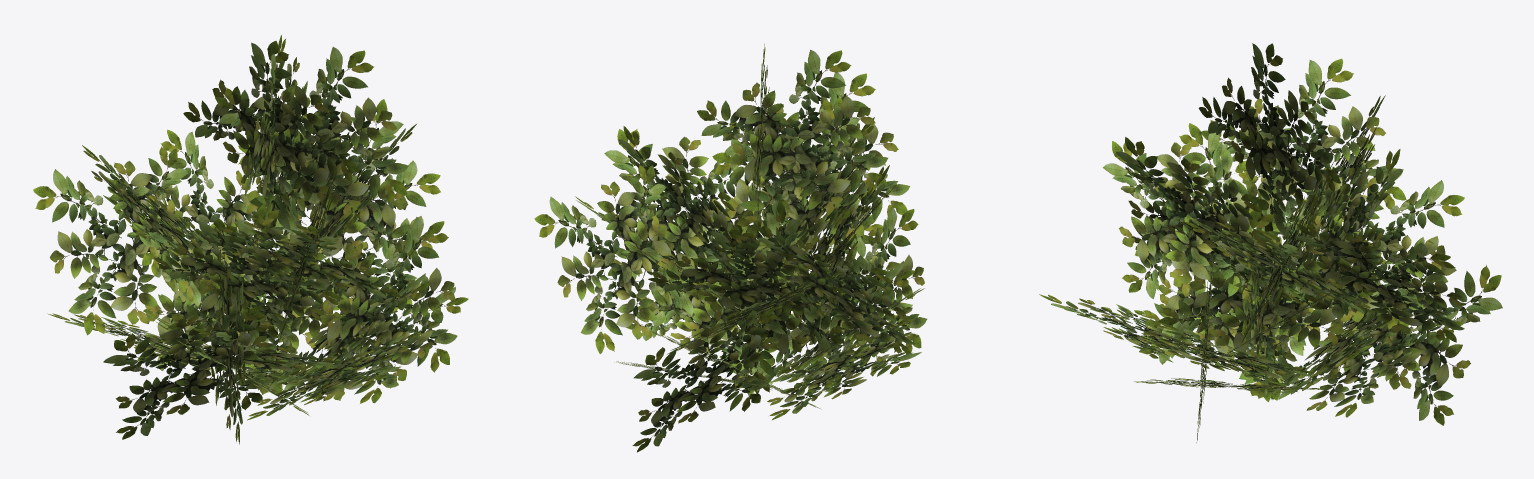
Rendered from bush-01.fbx.
3 views of the same model, side by side, from view 1: azimuth 30°, elevation 25°; view 2: azimuth 150°, elevation 25°; view 3: azimuth 270°, elevation 25° (orthographic). The views are drawn at different scales.
Visible parts, largest first — view 1: Polygon.2; view 2: Polygon.2; view 3: Polygon.2.
Part boxes in pixels (x1,y1,x2,y2): Polygon.2: (33, 35, 468, 444); Polygon.2: (534, 44, 927, 452); Polygon.2: (1039, 43, 1502, 442).
Size of the model in its own units: 442 by 412 by 473.
